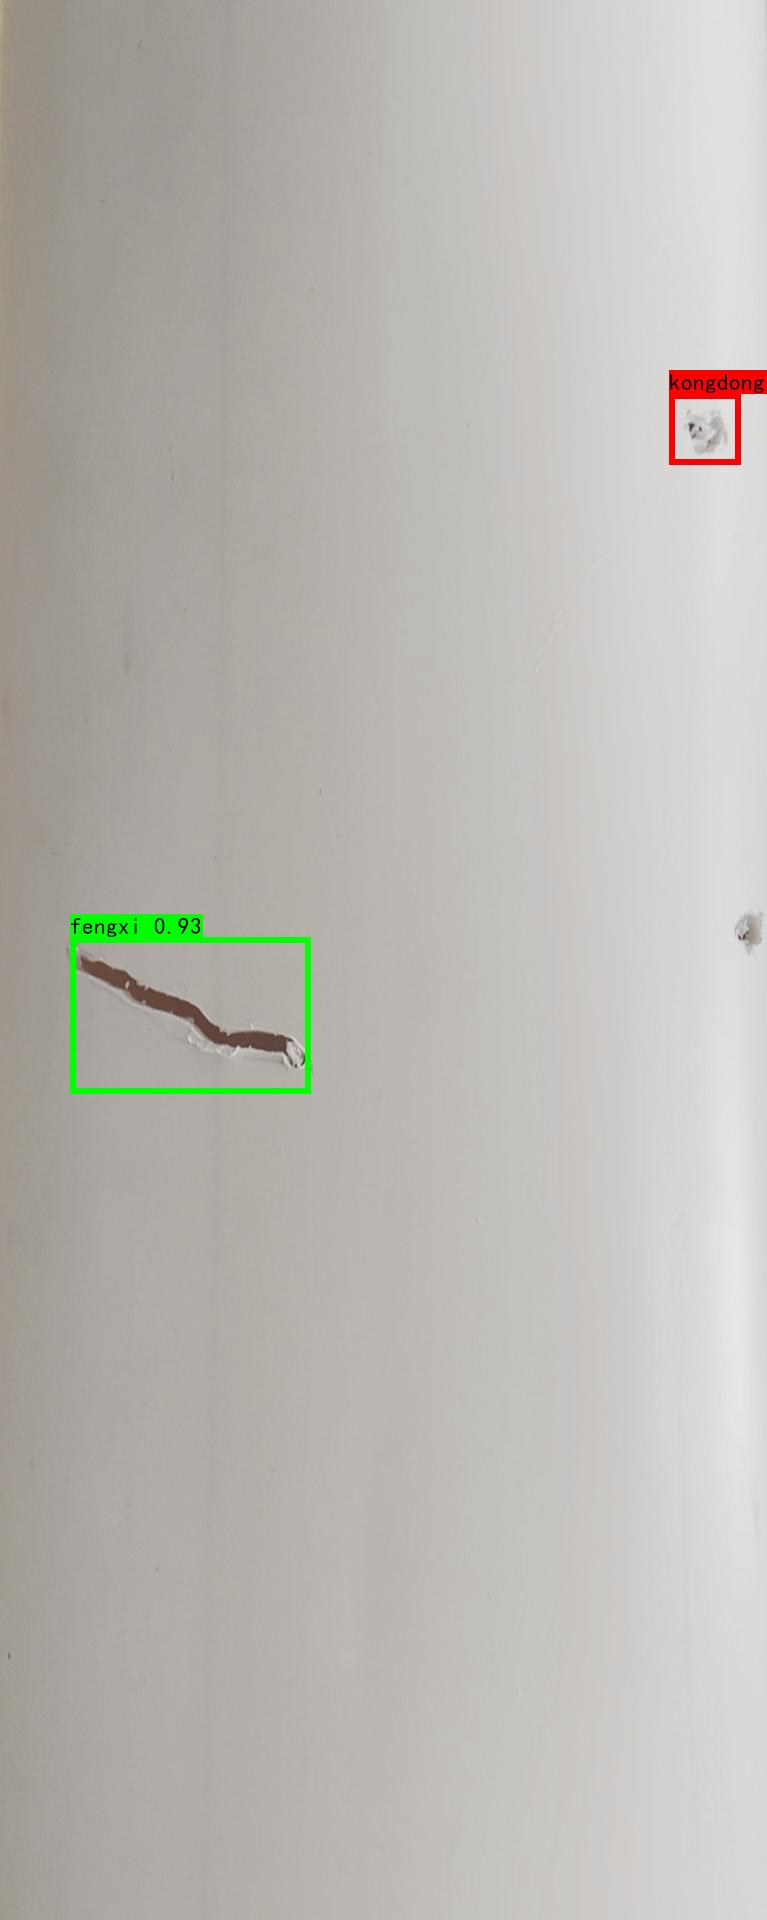fengxi: (56, 929, 310, 1086)
kongdong: (674, 407, 735, 460), (733, 898, 760, 958)
